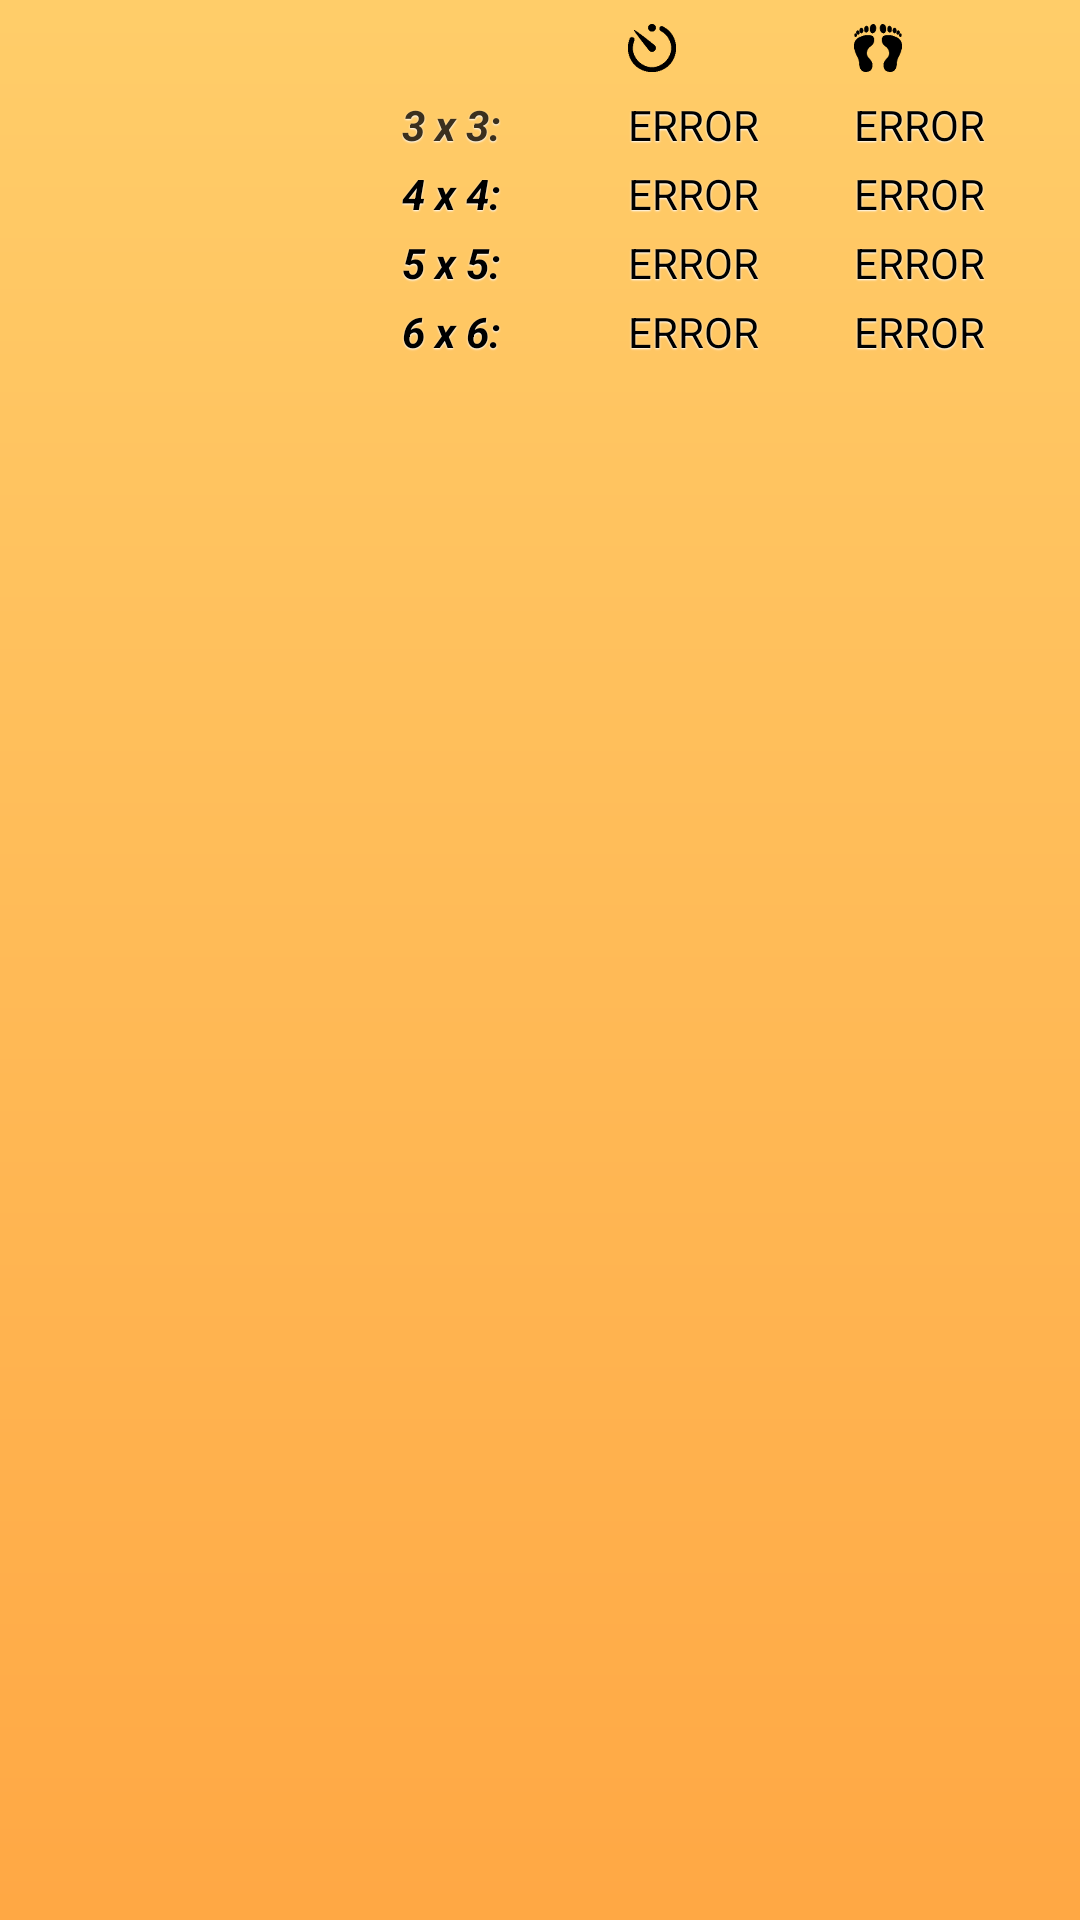

Where to tap for icons on this 1080w x 1920h app screen, as (x,y):
moves: (878,48)
time: (652,48)
